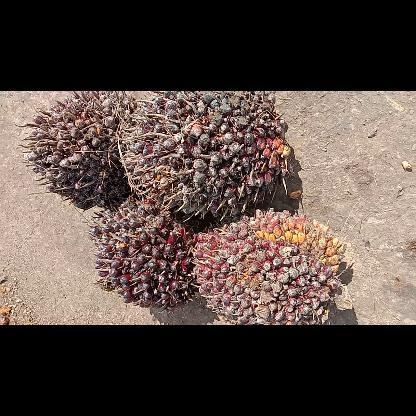Kurang masak: (128, 91, 298, 215), (191, 207, 357, 324), (21, 91, 136, 207), (86, 202, 198, 310)
